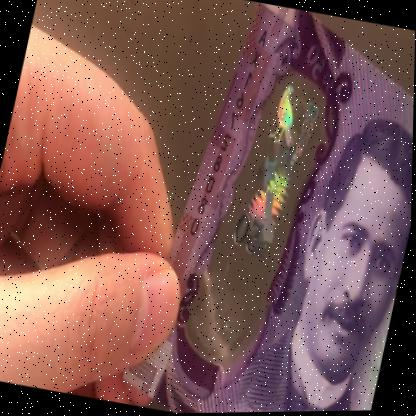50F: (202, 72, 332, 348)
